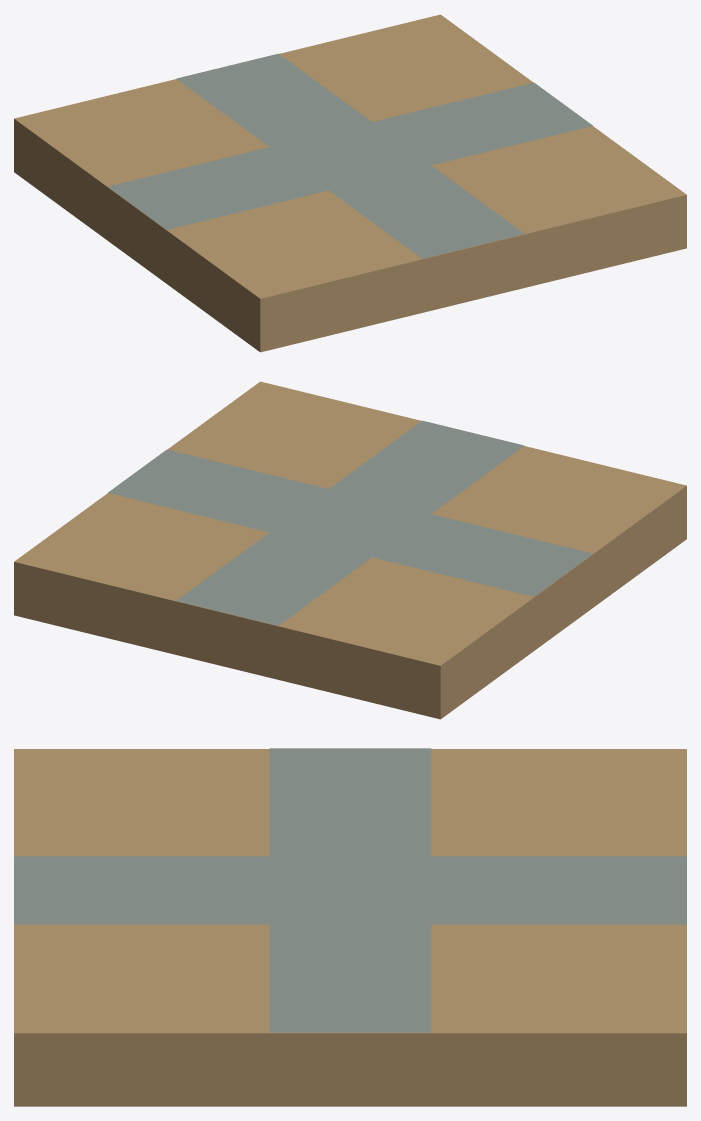
The model's file is road_cross.glb.
3 views of the same model, one above another, from view 1: azimuth 30°, elevation 25°; view 2: azimuth 150°, elevation 25°; view 3: azimuth 270°, elevation 25° (orthographic). The views are drawn at different scales.
Visible parts, largest first — view 1: road_cross; view 2: road_cross; view 3: road_cross.
Boxes of the visible parts, bbox=[...] form: road_cross: bbox=[14, 14, 686, 352]; road_cross: bbox=[14, 381, 686, 719]; road_cross: bbox=[14, 748, 686, 1106].
Size of the model in its own units: 1 by 0.121 by 1.
1 material, 1 textured.
